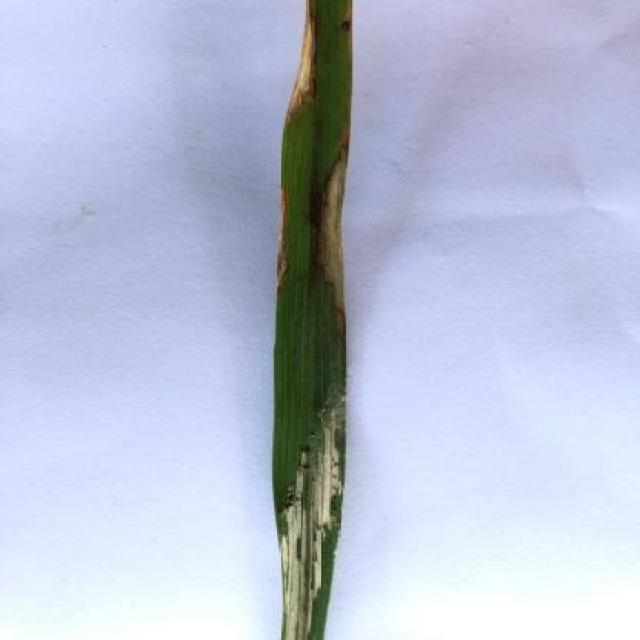Brown_Spot: (256, 0, 362, 640)
